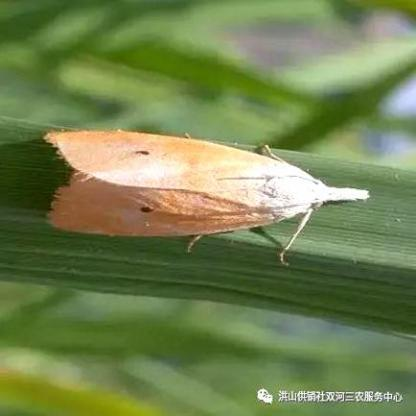stem-borer: (40, 128, 374, 248)
